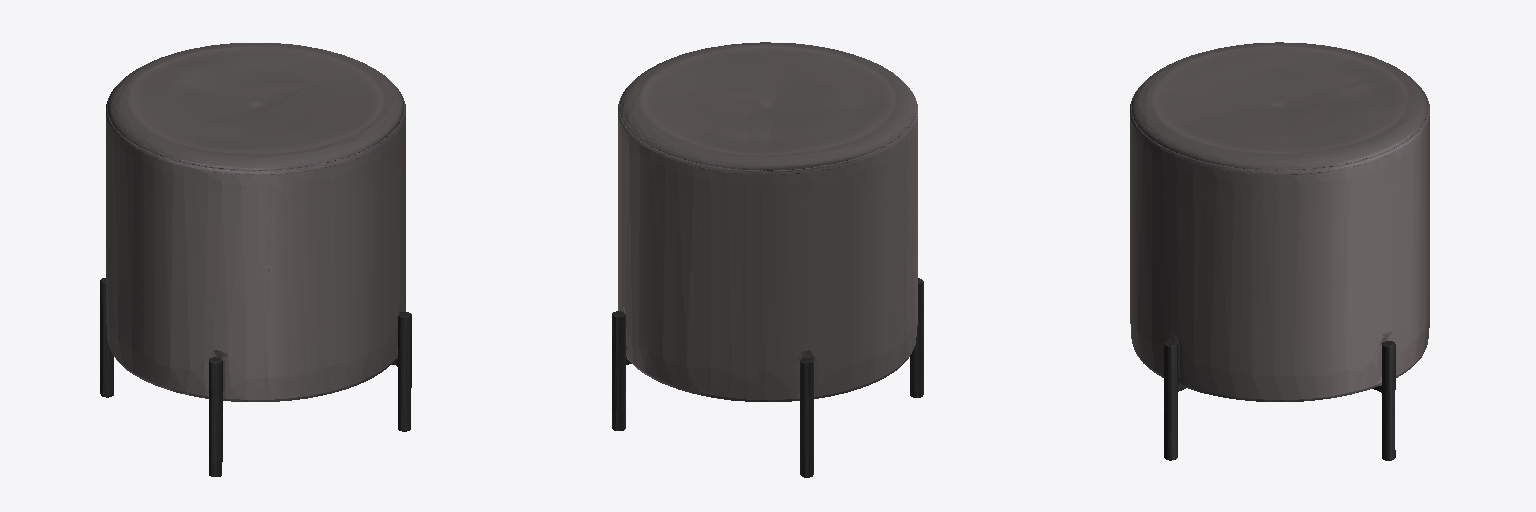
The picture shows the model from 3 angles: view 1: azimuth 30°, elevation 25°; view 2: azimuth 150°, elevation 25°; view 3: azimuth 270°, elevation 25°; orthographic projection.
Size of the model in its own units: 0.5295 by 0.6067 by 0.5297.
1 materials, 1 textured.